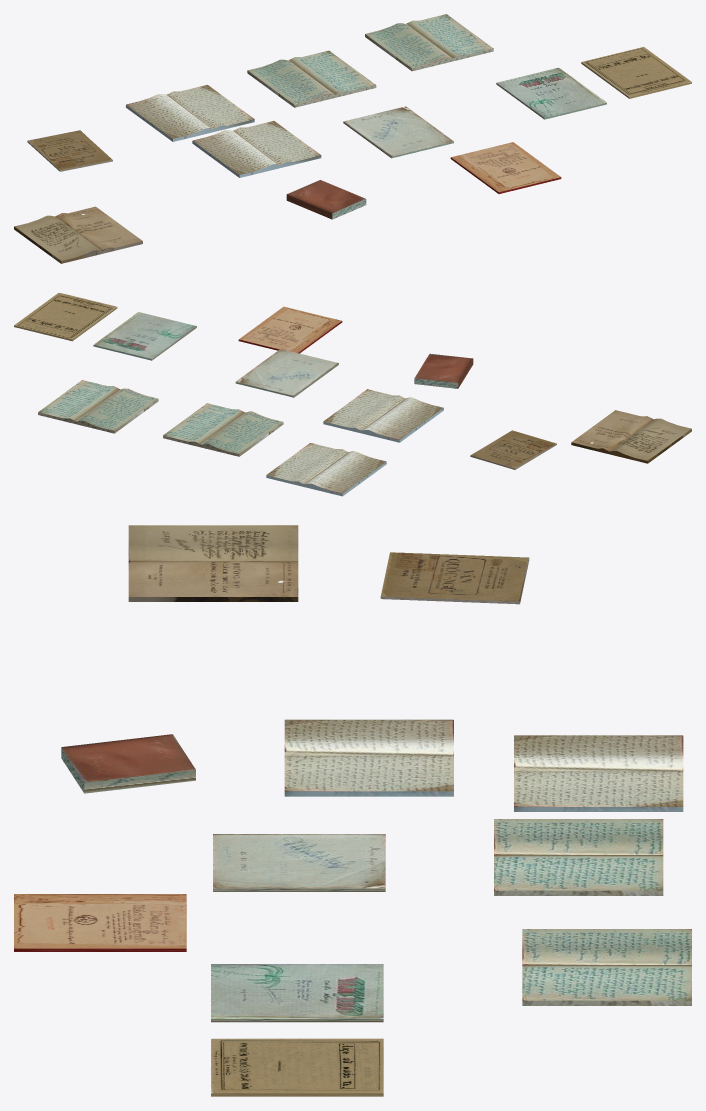
File: model sach vo.fbx
The picture shows the model from 3 angles, top to bottom: view 1: azimuth 30°, elevation 25°; view 2: azimuth 150°, elevation 25°; view 3: azimuth 270°, elevation 25°; orthographic projection. The views are drawn at different scales.
Visible parts, largest first — view 1: Plane, Plane.003, Plane.004, Plane.001, Plane.002, Cube, Cube.001, Cube.004, Cube.003, Cube.005, Cube.002; view 2: Plane.004, Plane.001, Plane, Plane.003, Plane.002, Cube, Cube.001, Cube.003, Cube.004, Cube.005, Cube.002; view 3: Plane.001, Plane.004, Plane, Plane.003, Plane.002, Cube.001, Cube.003, Cube, Cube.004, Cube.005, Cube.002.
Part boxes in pixels (x1=…): Plane: x1=247, y1=50, x2=376, y2=107; Plane.003: x1=365, y1=14, x2=493, y2=71; Plane.004: x1=14, y1=206, x2=142, y2=263; Plane.001: x1=192, y1=121, x2=321, y2=177; Plane.002: x1=125, y1=84, x2=254, y2=141; Cube: x1=343, y1=106, x2=453, y2=158; Cube.001: x1=496, y1=67, x2=606, y2=119; Cube.004: x1=450, y1=142, x2=561, y2=193; Cube.003: x1=581, y1=47, x2=691, y2=98; Cube.005: x1=27, y1=130, x2=112, y2=171; Cube.002: x1=286, y1=180, x2=366, y2=219; Plane.004: x1=571, y1=410, x2=691, y2=463; Plane.001: x1=323, y1=389, x2=443, y2=442; Plane: x1=163, y1=403, x2=283, y2=456; Plane.003: x1=38, y1=380, x2=158, y2=433; Plane.002: x1=266, y1=443, x2=386, y2=496; Cube: x1=235, y1=349, x2=338, y2=397; Cube.001: x1=93, y1=312, x2=196, y2=360; Cube.003: x1=14, y1=292, x2=117, y2=341; Cube.004: x1=238, y1=306, x2=342, y2=353; Cube.005: x1=470, y1=430, x2=556, y2=469; Cube.002: x1=414, y1=353, x2=473, y2=388; Plane.001: x1=284, y1=719, x2=453, y2=796; Plane.004: x1=128, y1=525, x2=298, y2=601; Plane: x1=494, y1=819, x2=663, y2=895; Plane.003: x1=522, y1=929, x2=691, y2=1005; Plane.002: x1=514, y1=735, x2=683, y2=811; Cube.001: x1=211, y1=964, x2=383, y2=1022; Cube.003: x1=211, y1=1038, x2=383, y2=1096; Cube: x1=213, y1=834, x2=385, y2=891; Cube.004: x1=14, y1=894, x2=186, y2=951; Cube.005: x1=380, y1=552, x2=529, y2=604; Cube.002: x1=61, y1=734, x2=195, y2=793.
Bounding box in the file's own units: 1600 × 76.72 × 800.
Materials: 6 (6 with a texture image).
